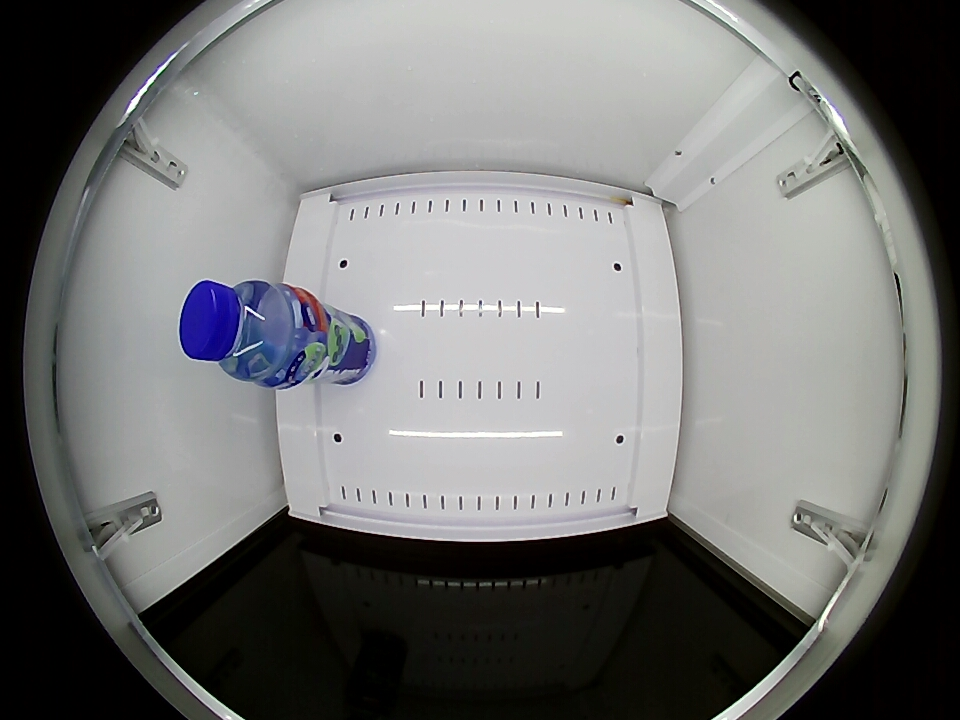maidong: (180, 279, 294, 382)
